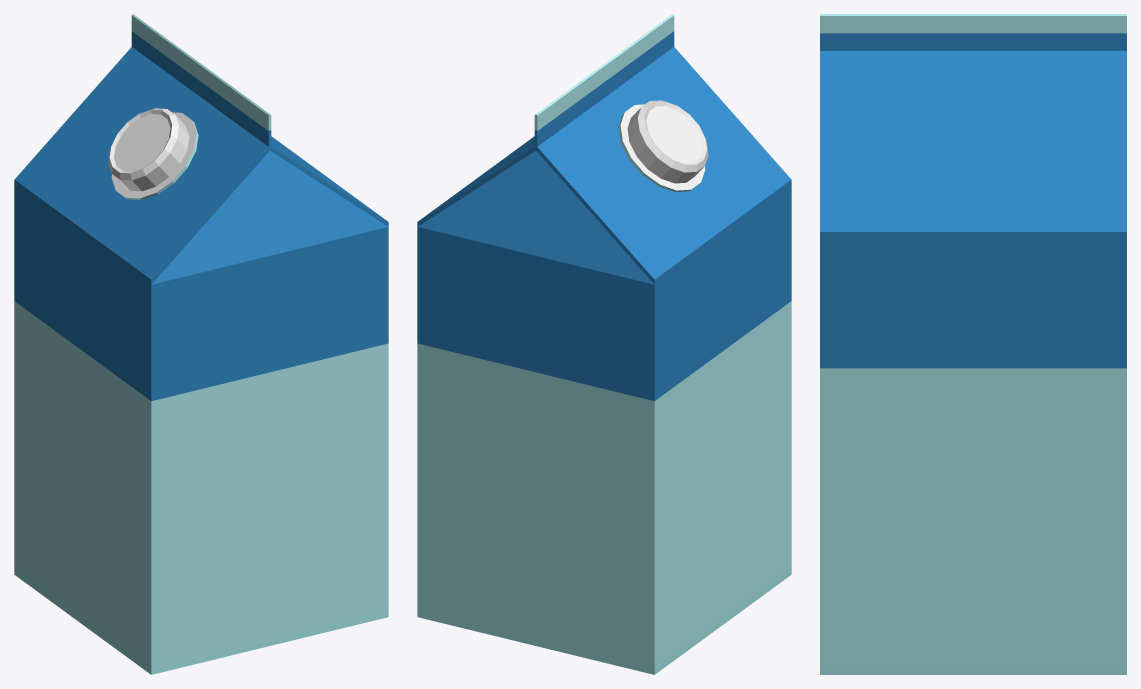
File: SM_Milk_Carton.fbx
The picture shows the model from 3 angles, left to right: view 1: azimuth 30°, elevation 25°; view 2: azimuth 150°, elevation 25°; view 3: azimuth 270°, elevation 25°; orthographic projection. The views are drawn at different scales.
Parts seen in each view (by area): view 1: Milk_Carton; view 2: Milk_Carton; view 3: Milk_Carton.
Boxes of the visible parts, x1,y1,x2,y2 form: Milk_Carton: (14, 14, 388, 674); Milk_Carton: (417, 14, 791, 674); Milk_Carton: (820, 14, 1126, 674).
Size of the model in its own units: 0.07 by 0.15 by 0.07.
Materials: 1 (1 with a texture image).
